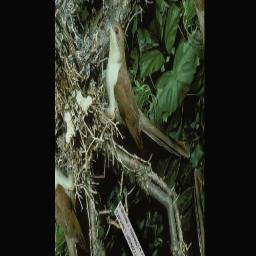Cuckoo: (81, 0, 191, 220)
